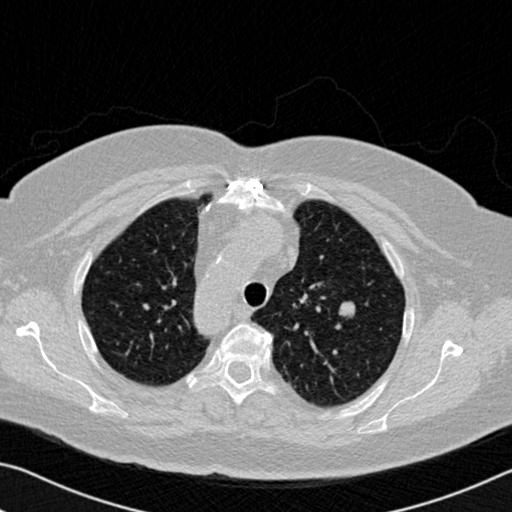nodule: (338, 297, 361, 320)
